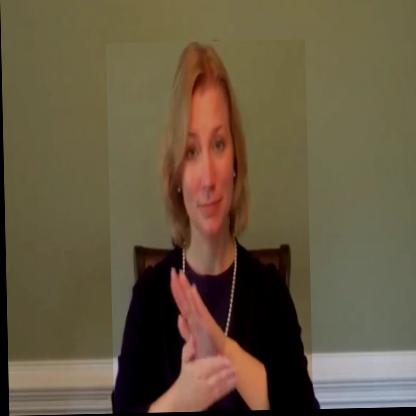NiceToMeetYou: (106, 41, 311, 414)
